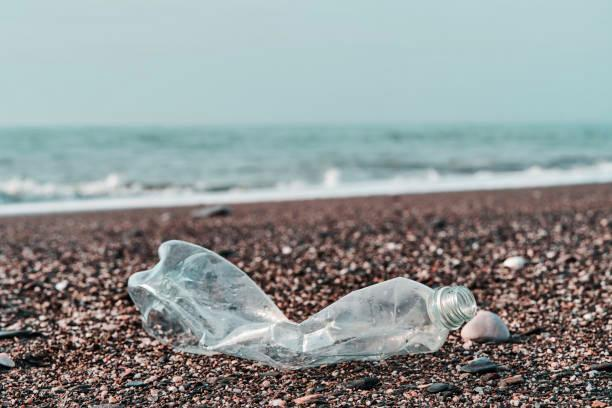Plastic: (131, 233, 471, 369)
